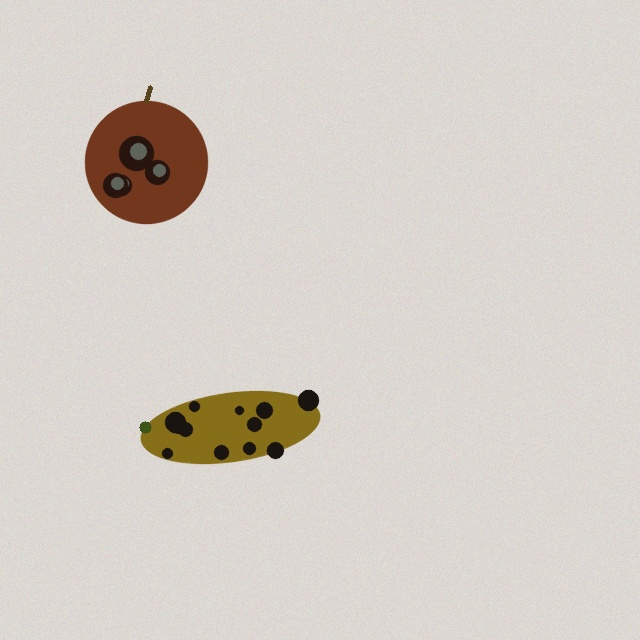Rotten apple: (85, 87, 207, 223)
Rotten banana: (136, 385, 324, 469)
